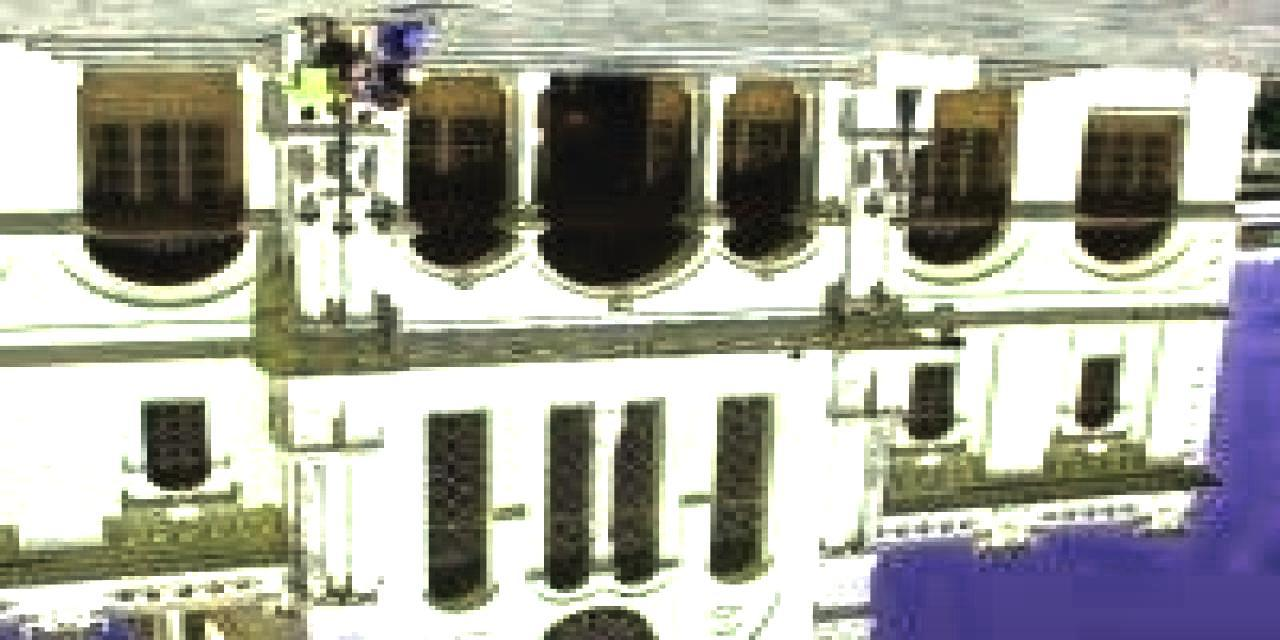Agios Minas: (1, 43, 1260, 631)
